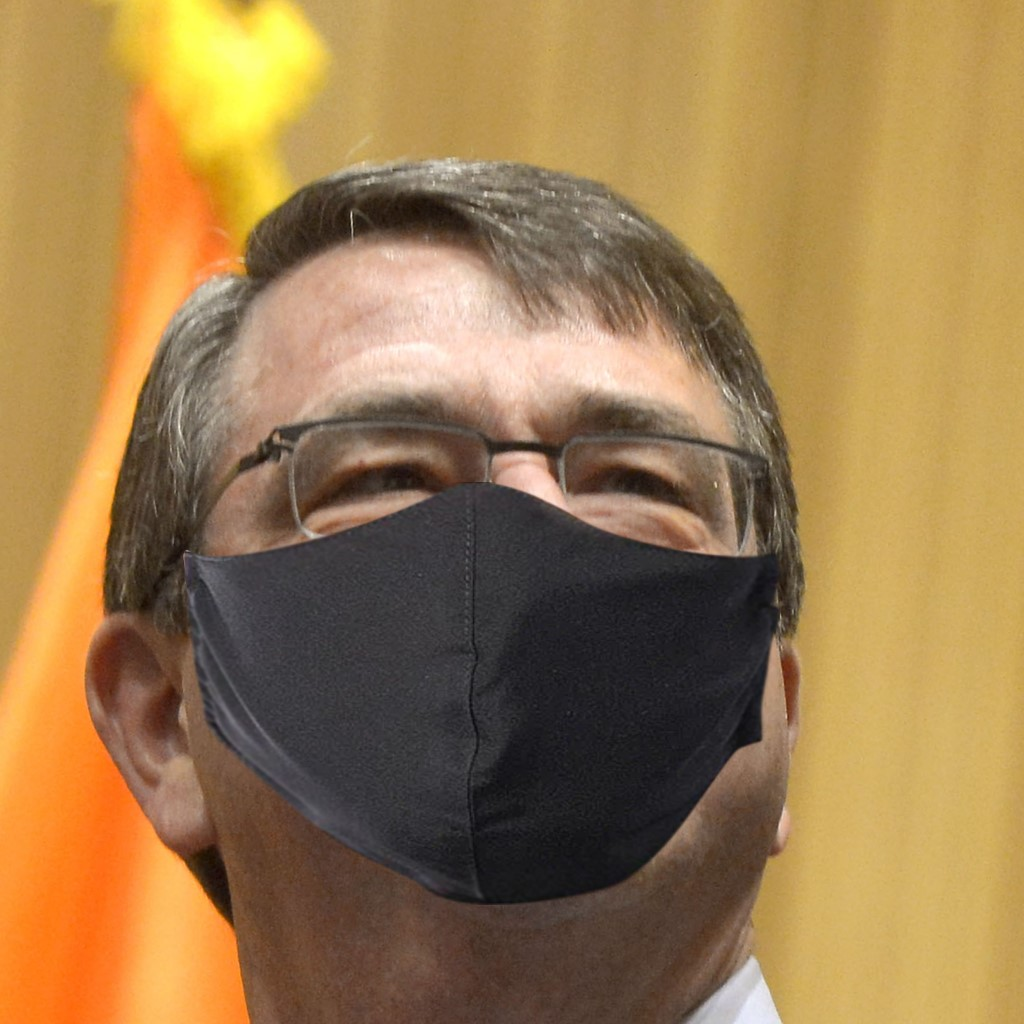con_mascara: (181, 218, 797, 915)
